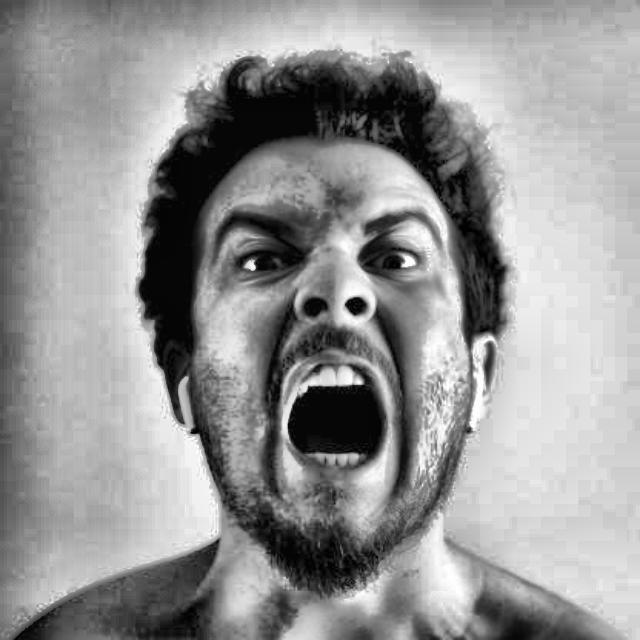angry: (117, 44, 532, 585)
